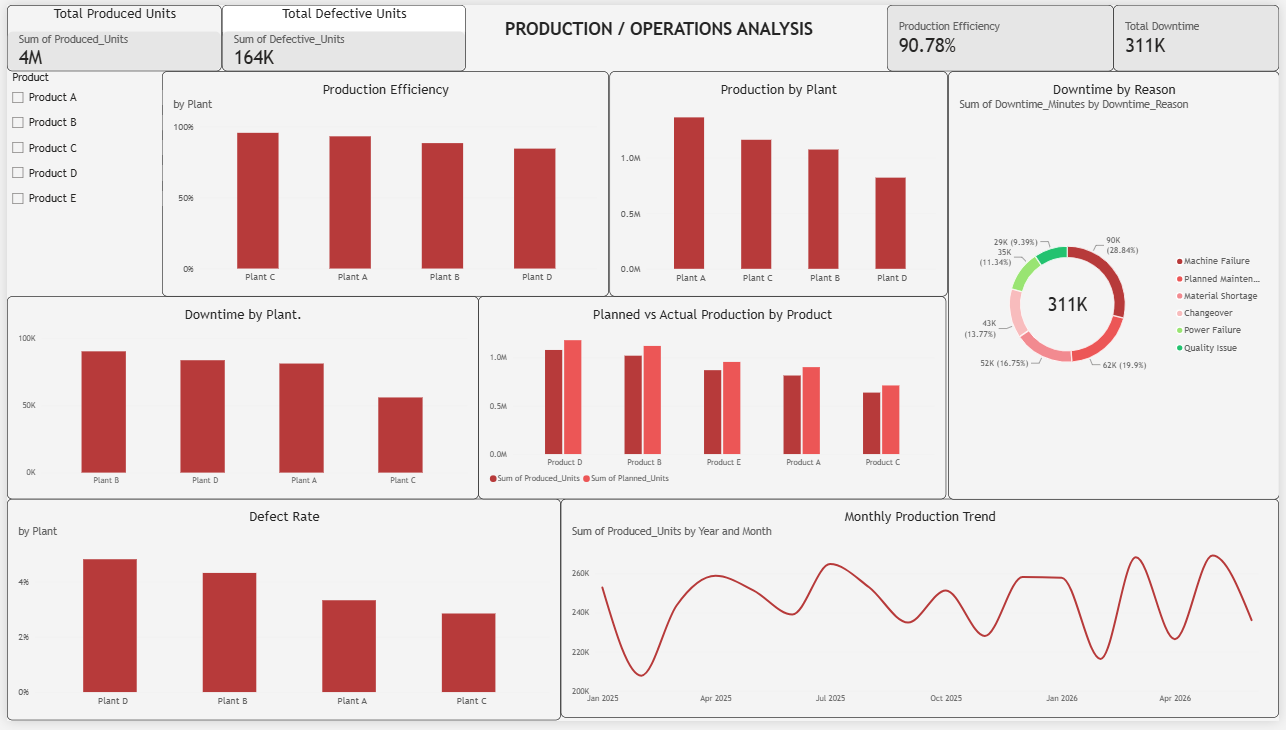

The page's visual inventory and layout, read from the dashboard file:
{"tool":"powerbi","page":{"name":" PRODUCTION / OPERATIONS ANALYSIS","canvas":[1920,1080],"ordinal":0},"visuals":[{"type":"cardVisual","title":"Total Produced Units","fields":{"Data":["Sum(manufacturing_operations_synthetic_5000_12vars.Produced_Units)"]},"box":[0,0,324,100],"z":0},{"type":"cardVisual","title":"Total Defective Units","fields":{"Data":["Sum(manufacturing_operations_synthetic_5000_12vars.Defective_Units)"]},"box":[324,0,368,100],"z":1000},{"type":"cardVisual","fields":{"Data":["manufacturing_operations_synthetic_5000_12vars.Production Efficiency"]},"box":[1328,0,342,100],"z":2000},{"type":"cardVisual","fields":{"Data":["manufacturing_operations_synthetic_5000_12vars.Total Downtime"]},"box":[1670,0,250,100],"z":3000},{"type":"clusteredColumnChart","title":"Production by Plant","fields":{"Category":["manufacturing_operations_synthetic_5000_12vars.Plant"],"Y":["Sum(manufacturing_operations_synthetic_5000_12vars.Produced_Units)"]},"box":[910,100,510,340],"z":4000},{"type":"clusteredColumnChart","fields":{"Category":["manufacturing_operations_synthetic_5000_12vars.Plant"],"Y":["manufacturing_operations_synthetic_5000_12vars.Defect Rate"]},"box":[0,746,836,334],"z":5000},{"type":"clusteredColumnChart","fields":{"Category":["manufacturing_operations_synthetic_5000_12vars.Plant"],"Y":["manufacturing_operations_synthetic_5000_12vars.Production Efficiency"]},"box":[234,100,674,340],"z":6000},{"type":"clusteredColumnChart","title":"Downtime by Plant.","fields":{"Category":["manufacturing_operations_synthetic_5000_12vars.Plant"],"Y":["Sum(manufacturing_operations_synthetic_5000_12vars.Downtime_Minutes)"]},"box":[0,440,712,306],"z":7000},{"type":"lineChart","title":"Monthly Production Trend","fields":{"Category":["manufacturing_operations_synthetic_5000_12vars.Date.Variation.Date Hierarchy.Year","manufacturing_operations_synthetic_5000_12vars.Date.Variation.Date Hierarchy.Month"],"Y":["Sum(manufacturing_operations_synthetic_5000_12vars.Produced_Units)"]},"box":[836,746,1084,330],"z":8000},{"type":"donutChart","title":"Downtime by Reason","fields":{"Category":["manufacturing_operations_synthetic_5000_12vars.Downtime_Reason"],"Y":["Sum(manufacturing_operations_synthetic_5000_12vars.Downtime_Minutes)"]},"box":[1420,100,500,646],"z":10000},{"type":"clusteredColumnChart","title":"Planned vs Actual Production by Product","fields":{"Category":["manufacturing_operations_synthetic_5000_12vars.Product"],"Y":["Sum(manufacturing_operations_synthetic_5000_12vars.Produced_Units)","Sum(manufacturing_operations_synthetic_5000_12vars.Planned_Units)"]},"box":[712,440,706,306],"z":11000},{"type":"slicer","fields":{"Values":["manufacturing_operations_synthetic_5000_12vars.Product"]},"box":[0,100,234,324],"z":11001},{"type":"textbox","box":[744,20,504,62],"z":11002}]}

Visuals, with their boxes in screenshot pixels (x1, y1, x2, y2), scaled from the page's 1920x1080 canvas onto the 1286x730 screenshot:
"Total Produced Units" cardVisual: <bbox>0, 0, 217, 68</bbox>
"Total Defective Units" cardVisual: <bbox>217, 0, 463, 68</bbox>
cardVisual - manufacturing_operations_synthetic_5000_12vars.Production Efficiency: <bbox>889, 0, 1119, 68</bbox>
cardVisual - manufacturing_operations_synthetic_5000_12vars.Total Downtime: <bbox>1119, 0, 1285, 68</bbox>
"Production by Plant" clusteredColumnChart: <bbox>610, 68, 951, 297</bbox>
clusteredColumnChart - manufacturing_operations_synthetic_5000_12vars.Plant x manufacturing_operations_synthetic_5000_12vars.Defect Rate: <bbox>0, 504, 560, 729</bbox>
clusteredColumnChart - manufacturing_operations_synthetic_5000_12vars.Plant x manufacturing_operations_synthetic_5000_12vars.Production Efficiency: <bbox>157, 68, 608, 297</bbox>
"Downtime by Plant." clusteredColumnChart: <bbox>0, 297, 477, 504</bbox>
"Monthly Production Trend" lineChart: <bbox>560, 504, 1285, 727</bbox>
"Downtime by Reason" donutChart: <bbox>951, 68, 1285, 504</bbox>
"Planned vs Actual Production by Product" clusteredColumnChart: <bbox>477, 297, 950, 504</bbox>
slicer - manufacturing_operations_synthetic_5000_12vars.Product: <bbox>0, 68, 157, 287</bbox>
textbox: <bbox>498, 14, 836, 55</bbox>
